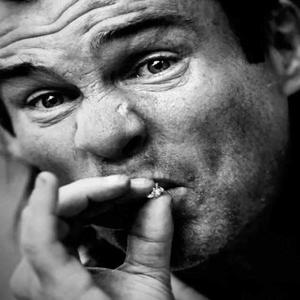cigarette: (144, 179, 164, 200)
